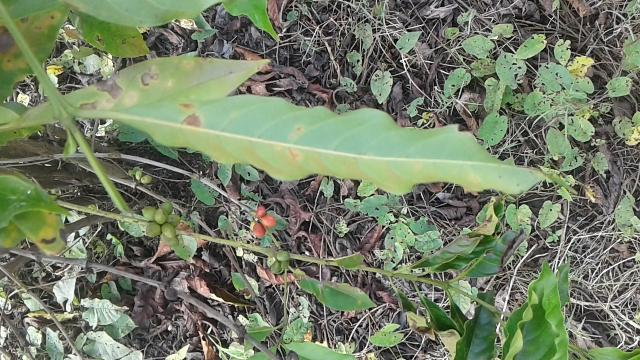rust_level_1: (70, 94, 560, 195)
